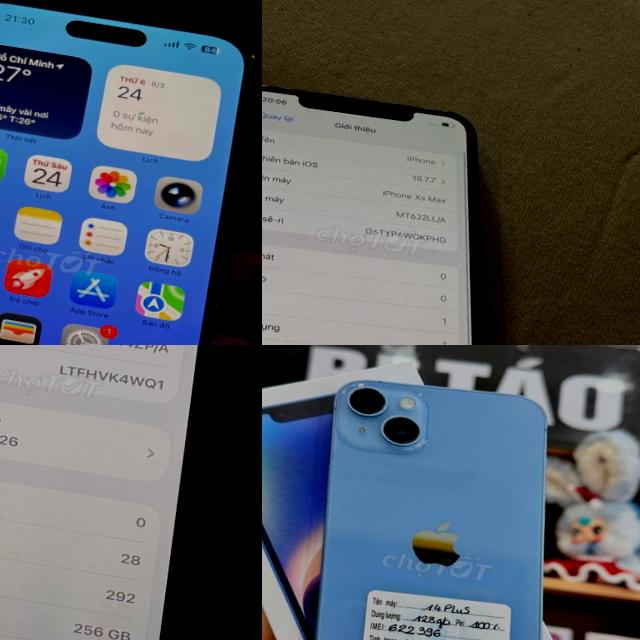gen_14: (0, 0, 262, 345), (286, 363, 598, 640)
gen_17: (0, 345, 251, 640)
gen_x_xs: (262, 65, 555, 345)
